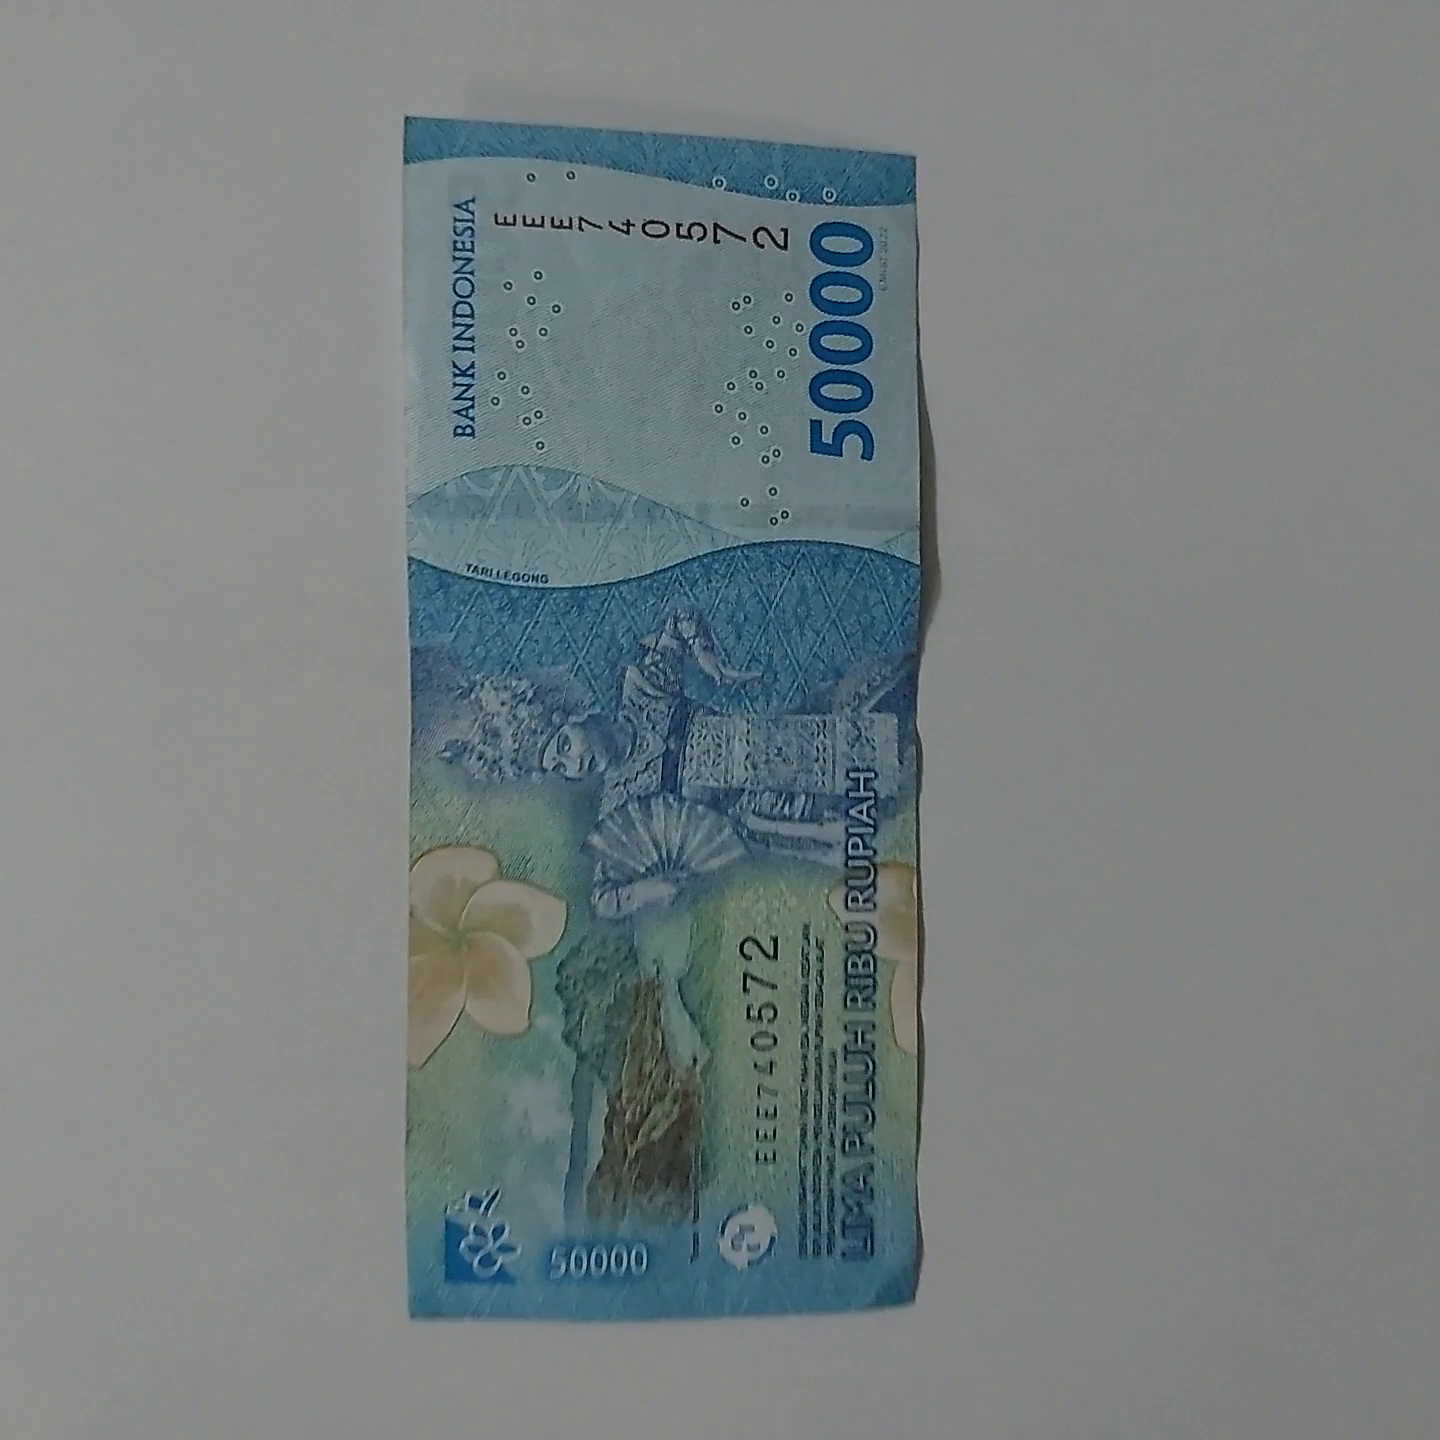50k: (384, 127, 930, 1321)
